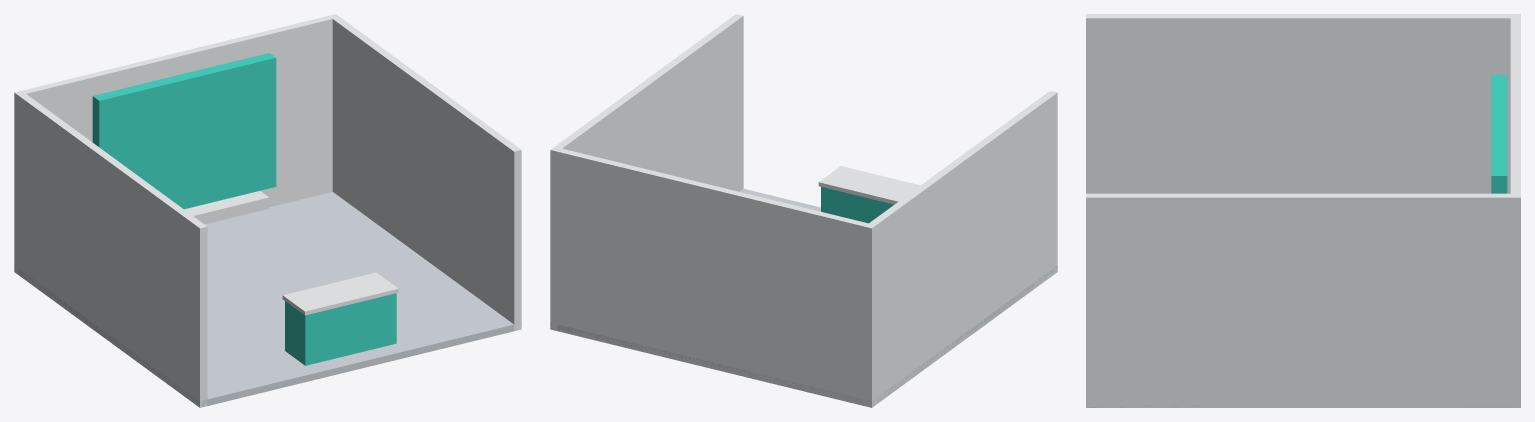
3 views of the same model, side by side, from view 1: azimuth 30°, elevation 25°; view 2: azimuth 150°, elevation 25°; view 3: azimuth 270°, elevation 25° (orthographic). The views are drawn at different scales.
Visible parts, largest first — view 1: Exhibition Booth Concept; view 2: Exhibition Booth Concept; view 3: Exhibition Booth Concept.
Part boxes in pixels (x1,y1,x2,y2): Exhibition Booth Concept: [14, 14, 521, 407]; Exhibition Booth Concept: [550, 14, 1057, 407]; Exhibition Booth Concept: [1086, 14, 1520, 407].
Size of the model in its own units: 6 by 3.2 by 6.
